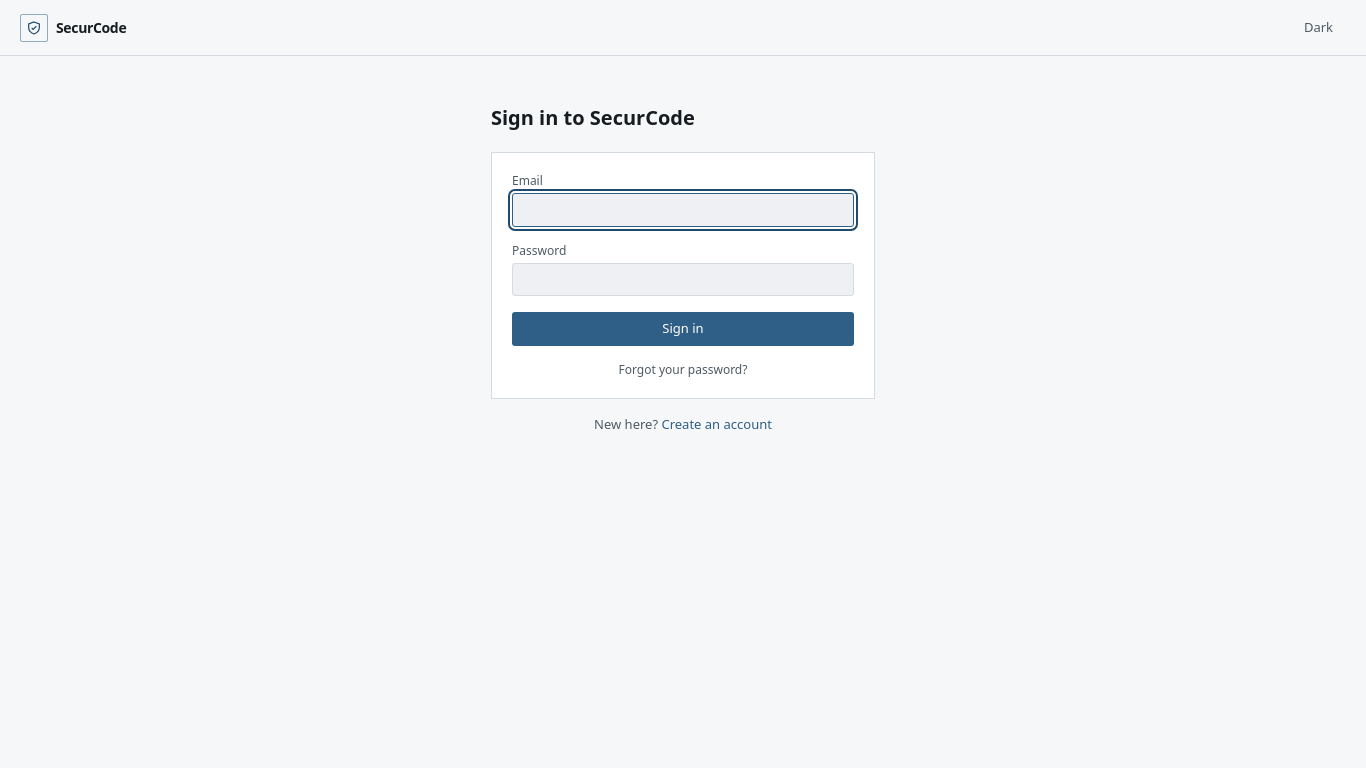
Test: application › signs in, completes the MFA challenge with the pending CSRF token, and lands on the dashboard
Type "owner@example.com" into the field labelled "Email".
click(683, 210); type("owner@example.com")  # box [512,193,854,226]
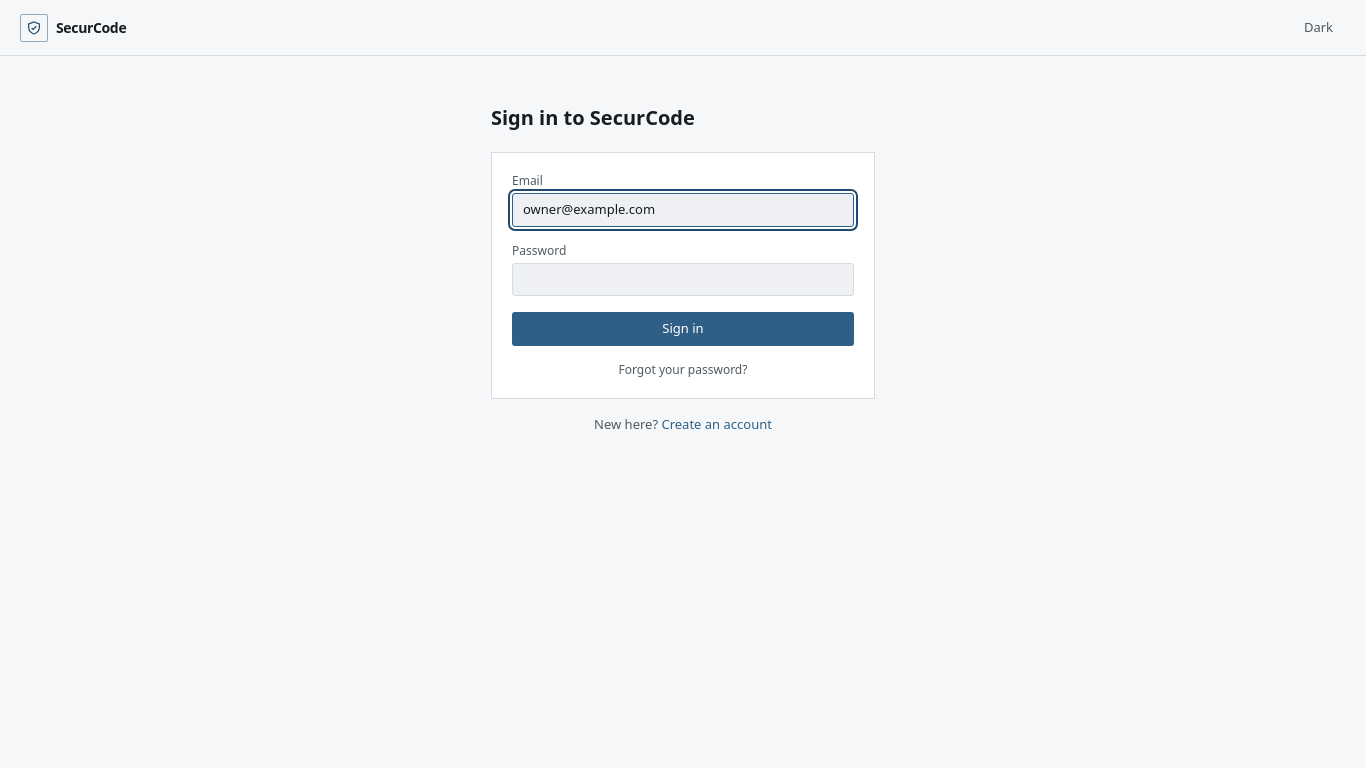
Type "Correct-Horse-Battery-42" into the password field labelled "Password".
click(683, 279); type("Correct-Horse-Battery-42")  # box [512,262,854,296]
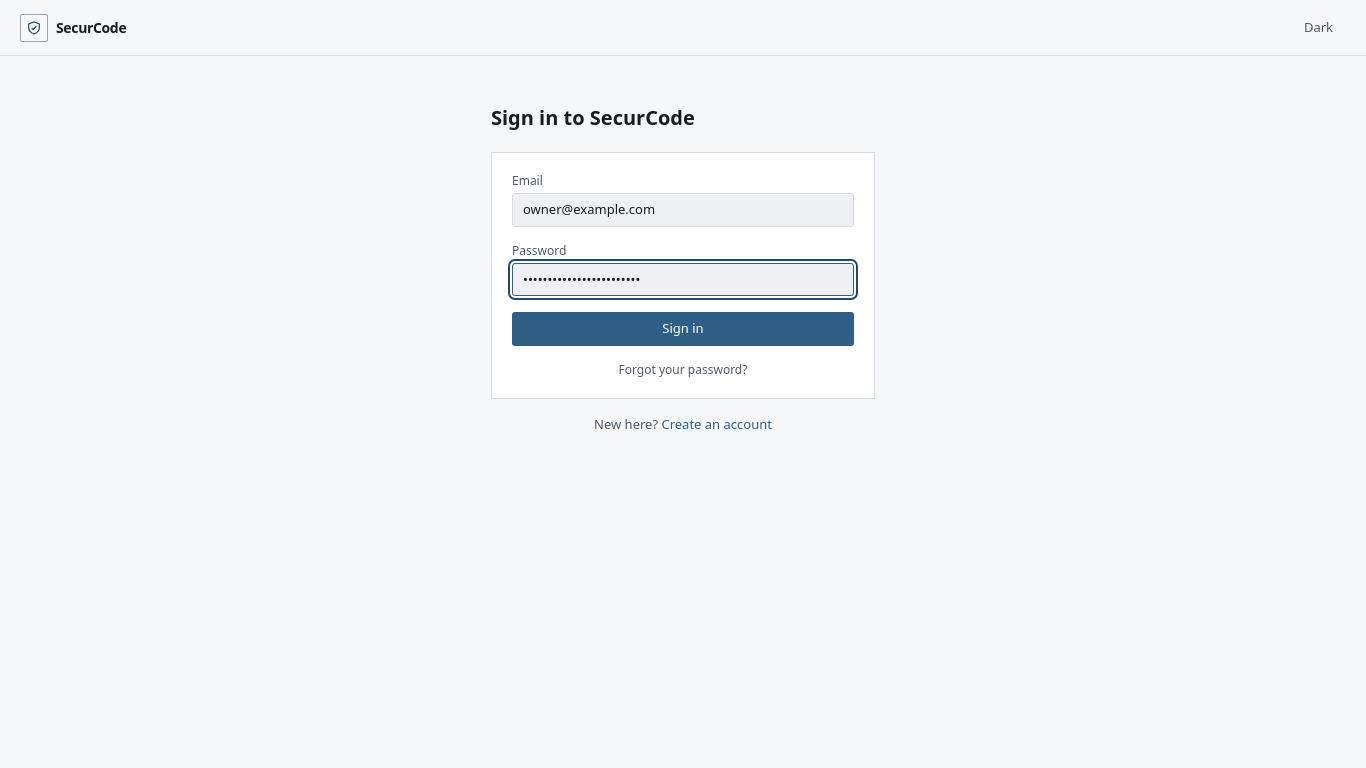
Click the button "Sign in".
click(683, 329)  # box [512,312,854,346]
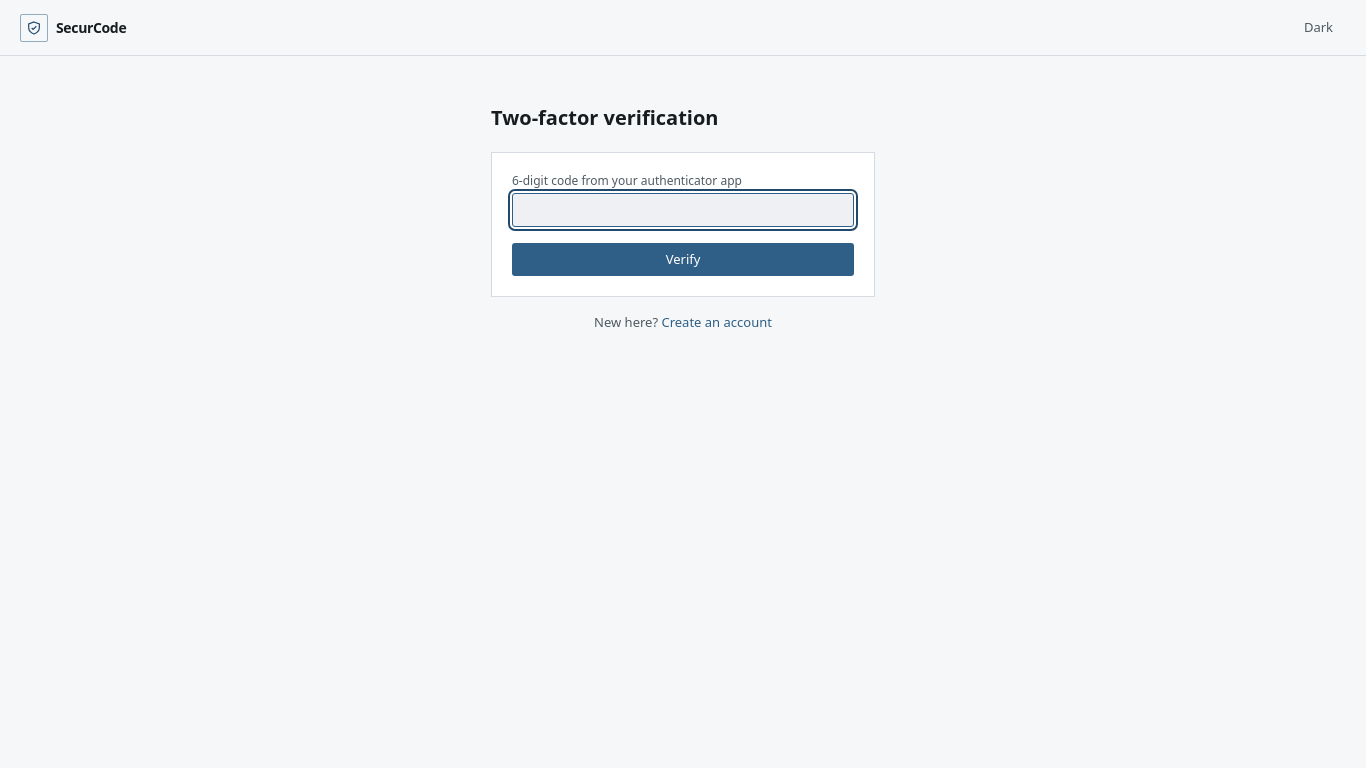
Type "123456" into the field labelled "6-digit code from your authenticator app".
click(683, 210); type("123456")  # box [512,193,854,226]
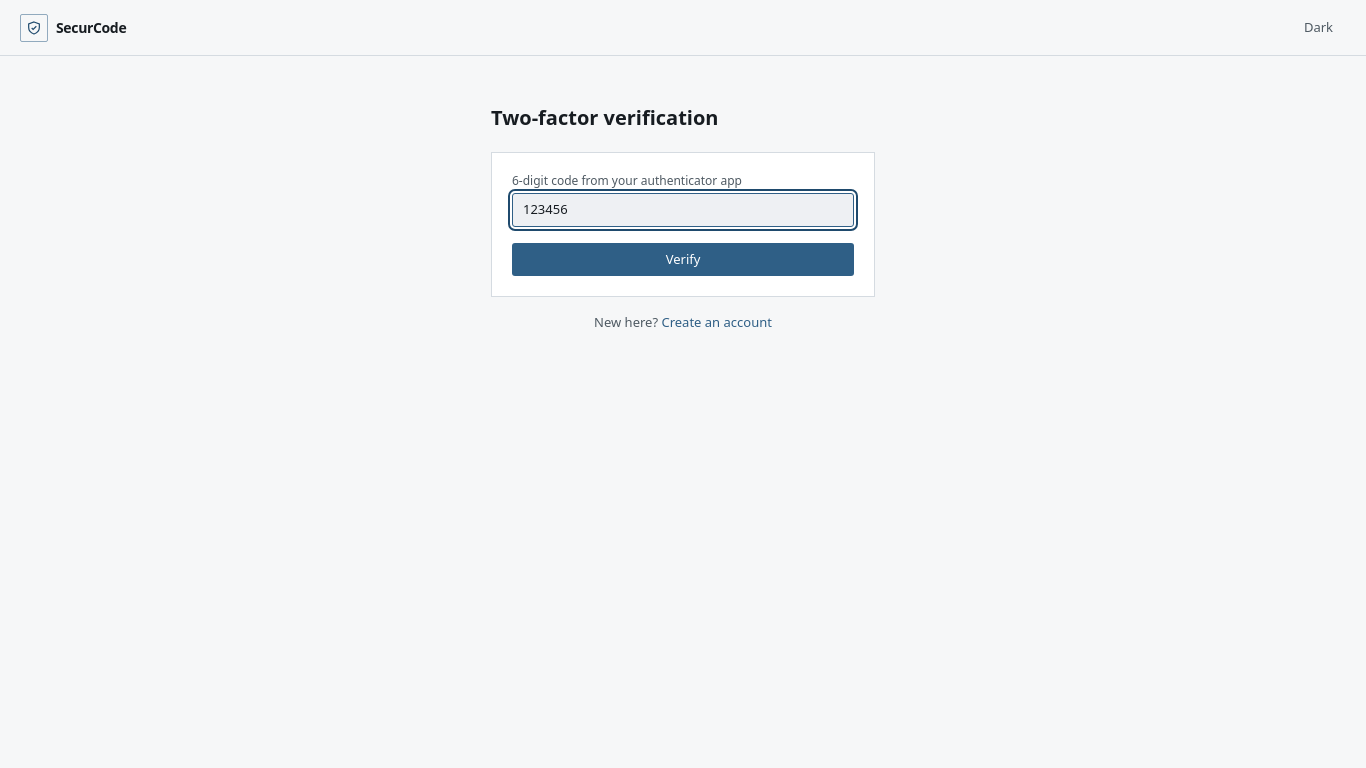
Click the button "Verify".
click(683, 259)  # box [512,242,854,276]
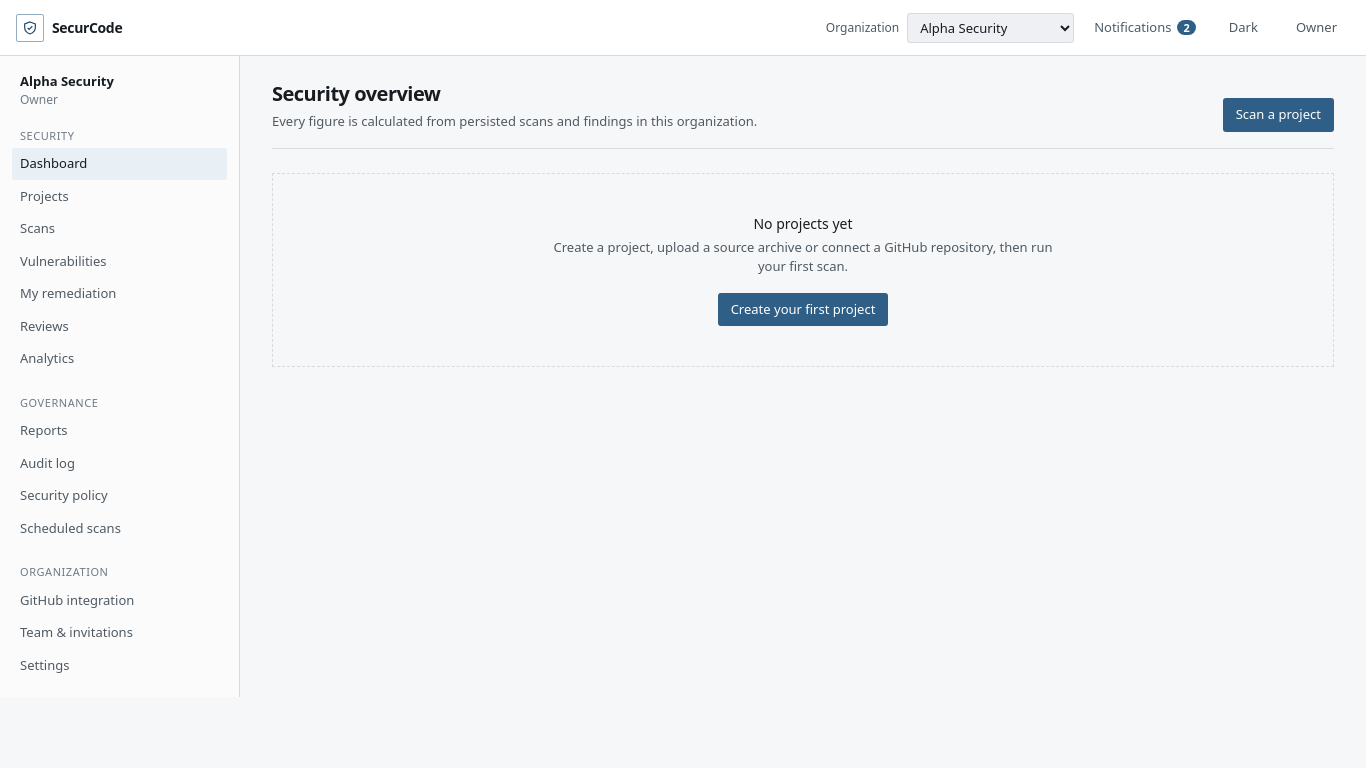
Now the heading "Security overview" is shown, box [272,80,440,107]
Now the text "No projects yet" is shown, box [754,214,853,232]
